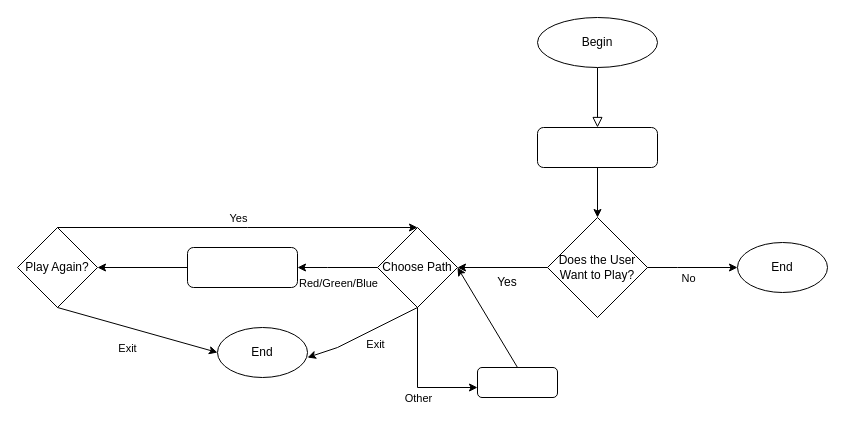
Image size: 845x422. Some labels were removed from this diagram. Here are the shapes that lost their labels. From the top down, the centre of each, then its label:
At point (597, 147): "Print Welcome Message".
At point (242, 267): "Print Random Result".
At point (517, 382): "Scold Message".
